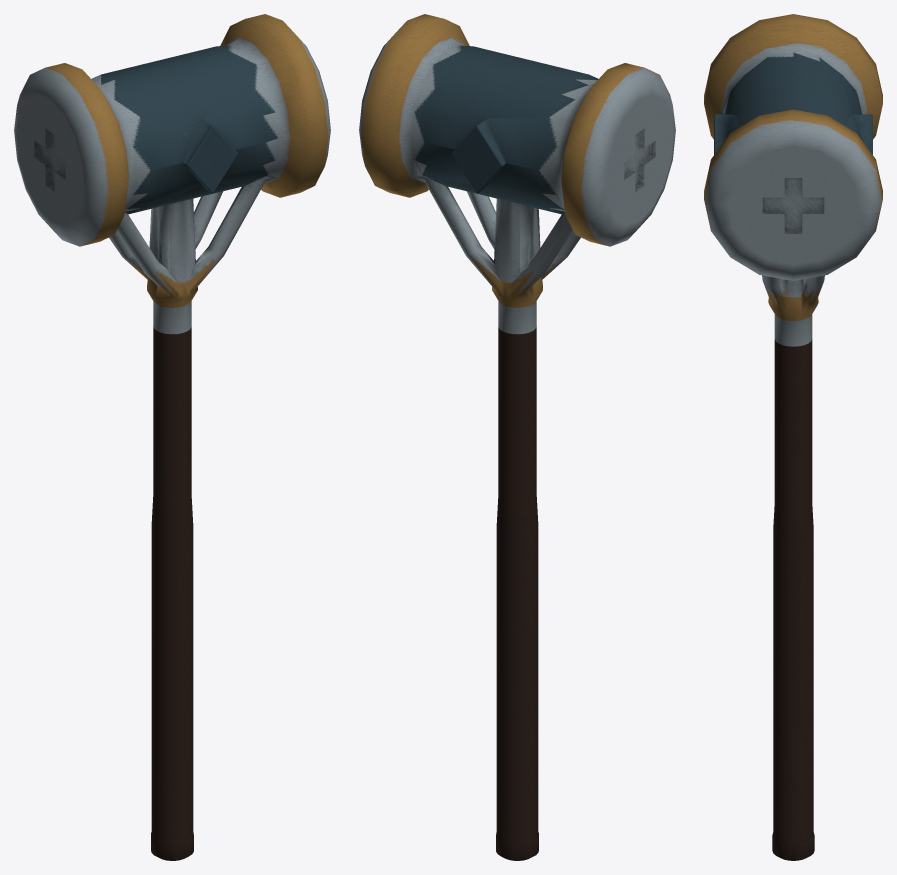
The model's file is maul-crafted.glb.
The picture shows the model from 3 angles, left to right: view 1: azimuth 30°, elevation 25°; view 2: azimuth 150°, elevation 25°; view 3: azimuth 270°, elevation 25°; orthographic projection. The views are drawn at different scales.
Parts seen in each view (by area): view 1: maul-crafted; view 2: maul-crafted; view 3: maul-crafted.
Boxes of the visible parts, box(x1,y1,x2,y2) form: maul-crafted: box(14, 14, 330, 860); maul-crafted: box(359, 14, 675, 860); maul-crafted: box(704, 14, 882, 860).
Bounding box in the file's own units: 0.34 × 1.07 × 0.22.
1 material, 1 textured.
